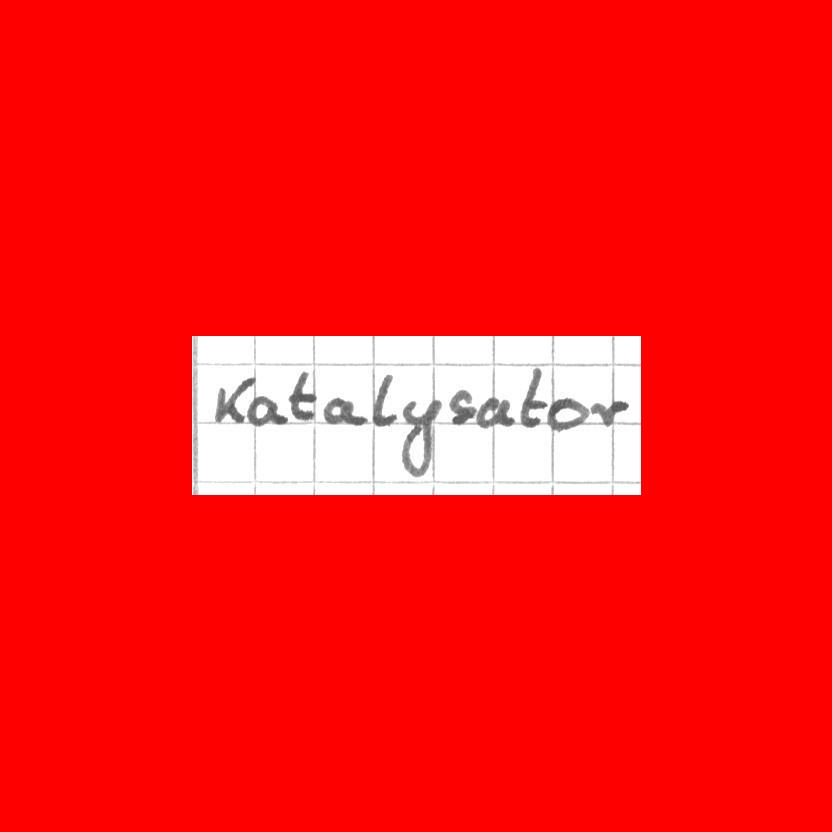Char: (398, 400, 438, 474), (517, 365, 549, 433), (214, 377, 250, 428), (474, 392, 516, 429), (287, 368, 314, 422), (372, 373, 397, 429), (322, 393, 363, 427), (588, 394, 630, 427), (245, 394, 285, 426), (549, 401, 586, 430), (448, 388, 473, 426)
